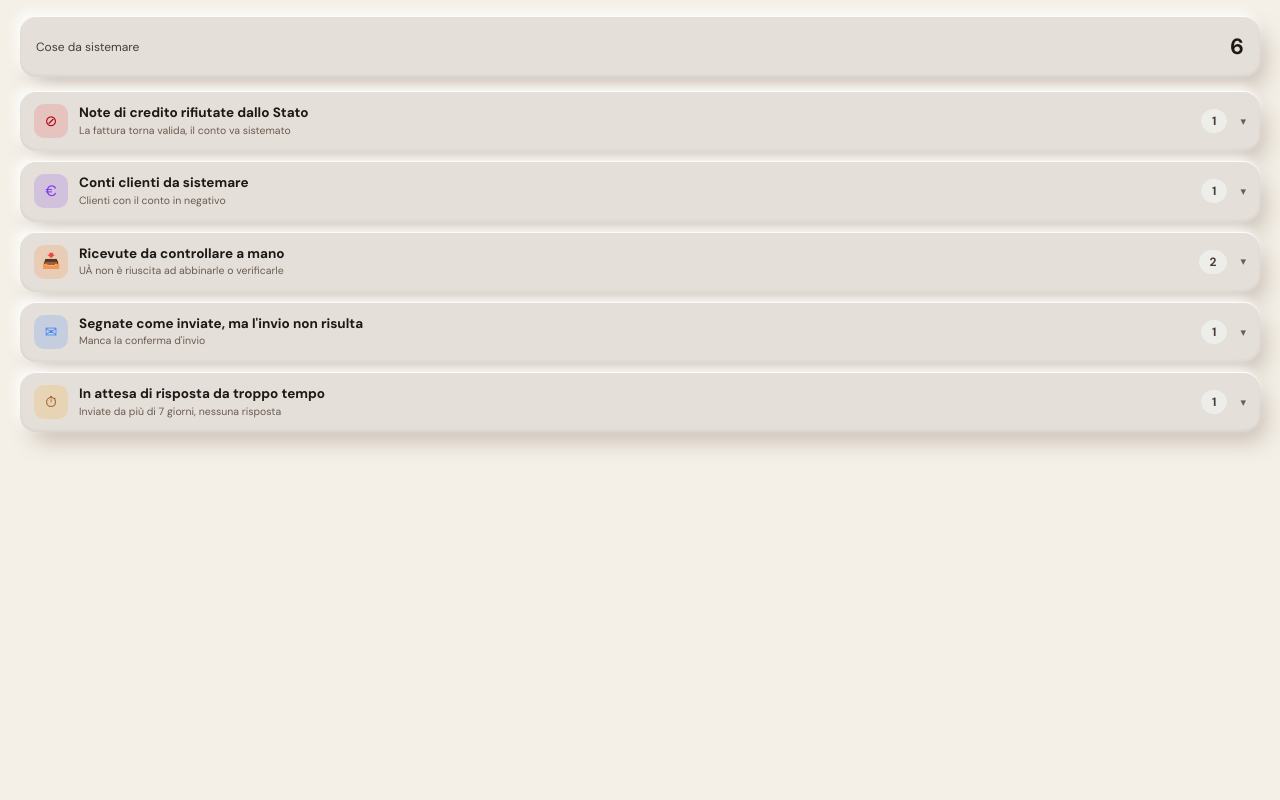
Test: RiconciliazioniClient — gate ruolo front_desk › front_desk: azioni condivise PRESENTI (Carica ricevuta PEC, Conferma ricevuta, Vedi il conto)
Click the button "In attesa di risposta da troppo tempo" at (51, 402), box [20,372,1260,432]
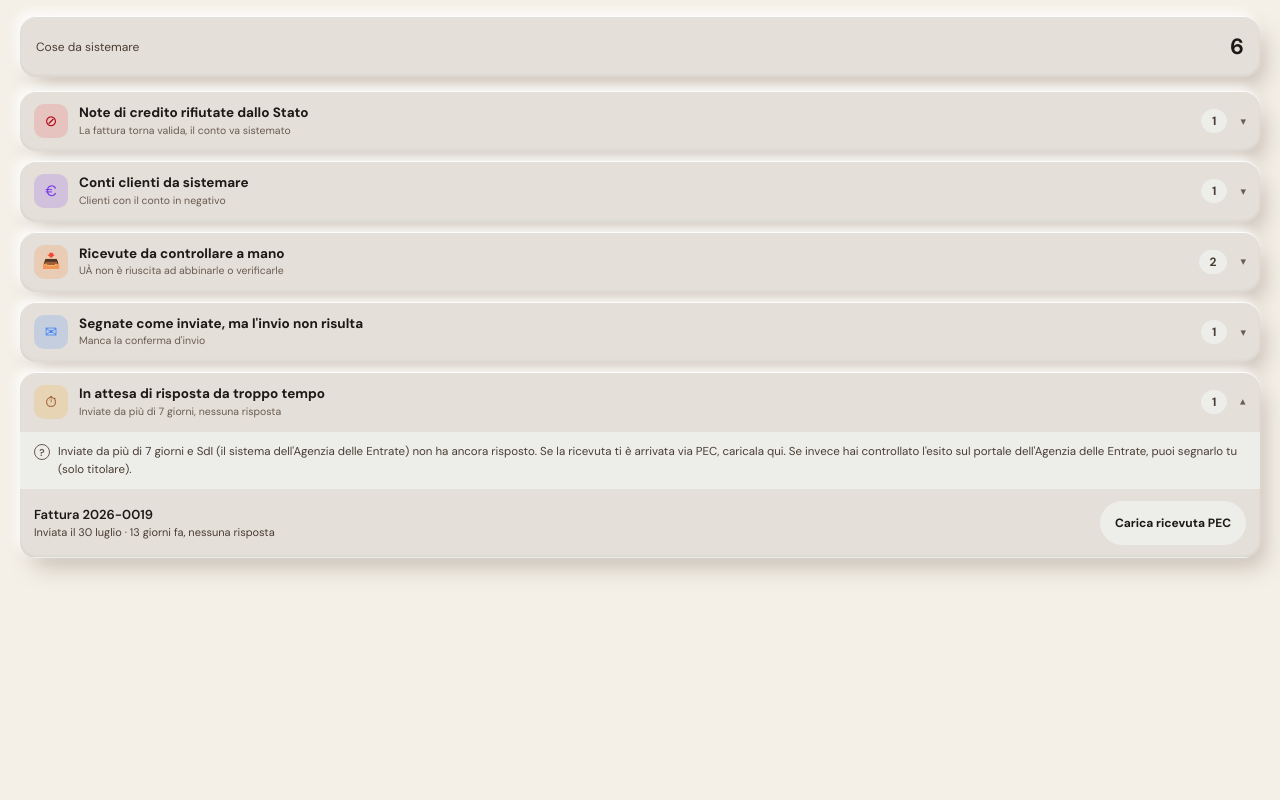
Click the button "Ricevute da controllare a mano" at (51, 262), box [20,232,1260,292]
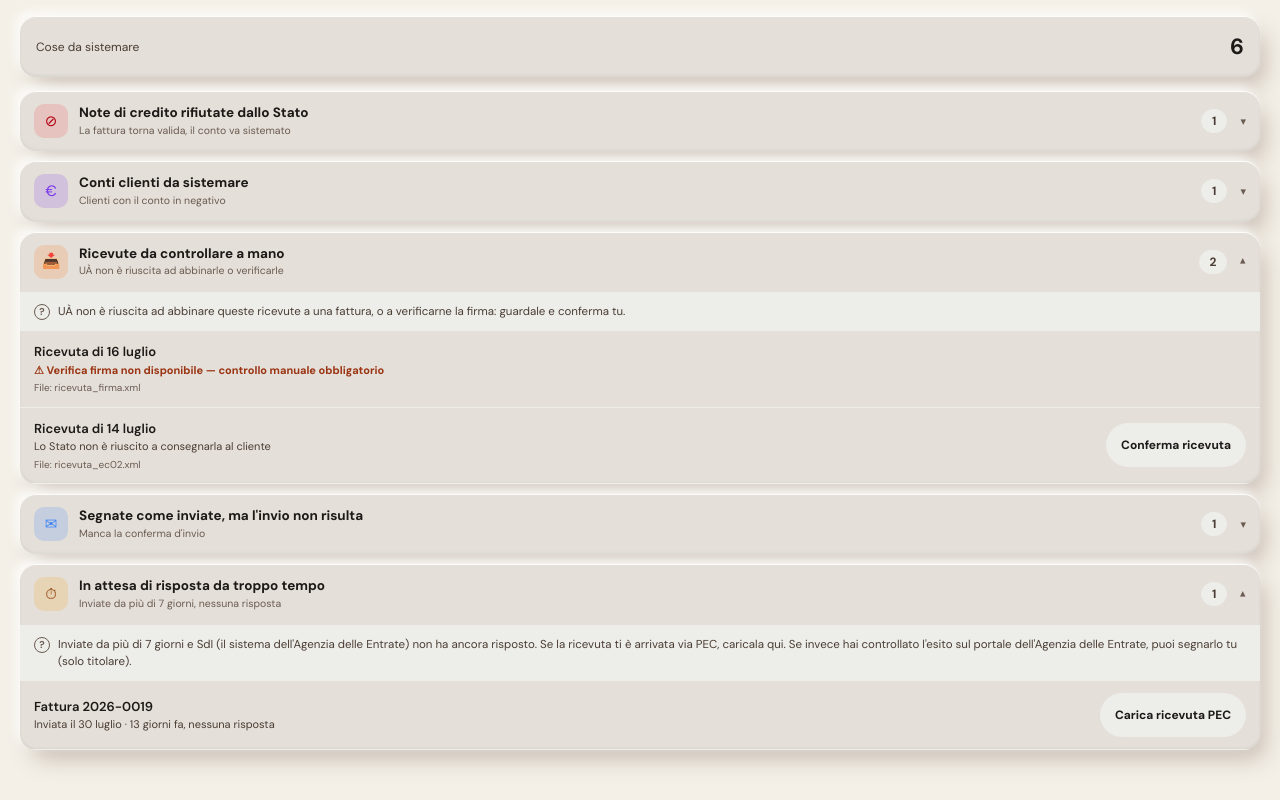
Click the button "Conti clienti da sistemare" at (51, 191), box [20,161,1260,222]
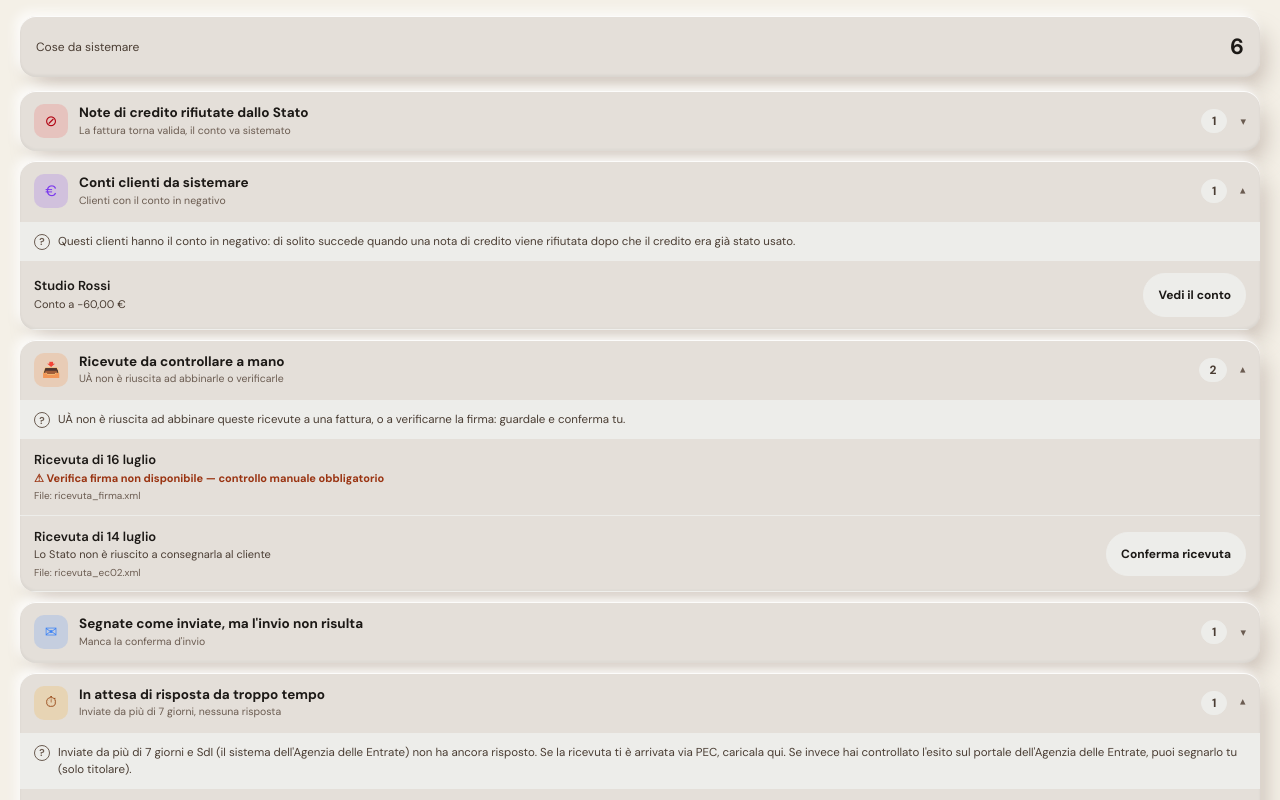
Result: the button "Conferma ricevuta" is shown at [1106,532,1246,576]
Result: the link "Vedi il conto" is shown at [1143,273,1246,317]
